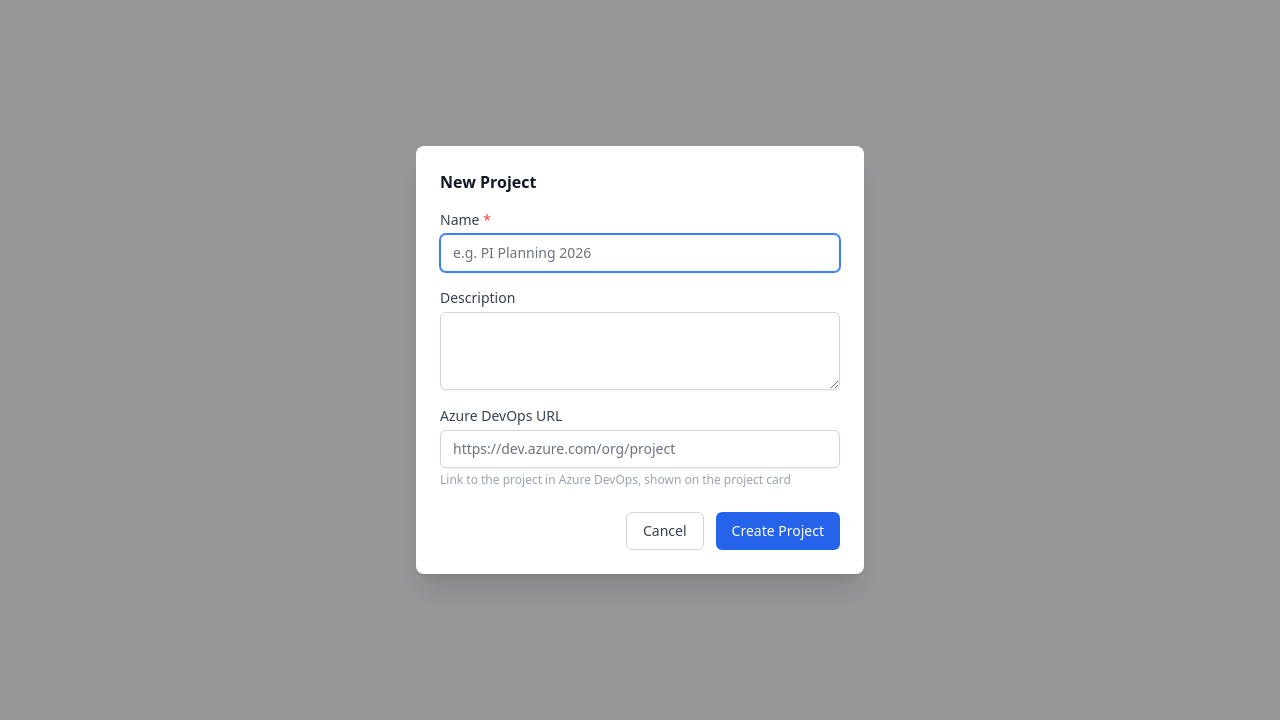
it: CreateProjectModal › shows duplicate name error on 409
This screenshot has width=1280, height=720.
Type "Dup" into the field labelled "Name *" at (640, 253), box x1=440 y1=234 x2=840 y2=272
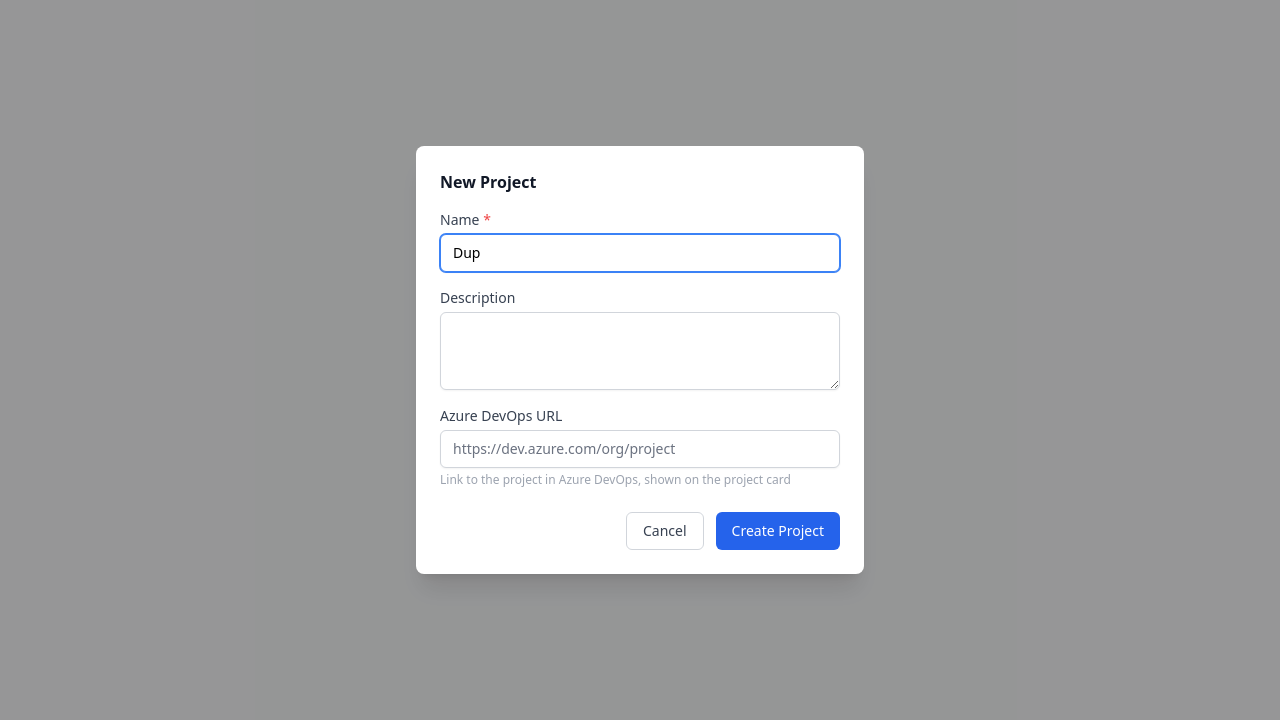
Click the button "Create Project" at (778, 531), box x1=716 y1=512 x2=840 y2=550
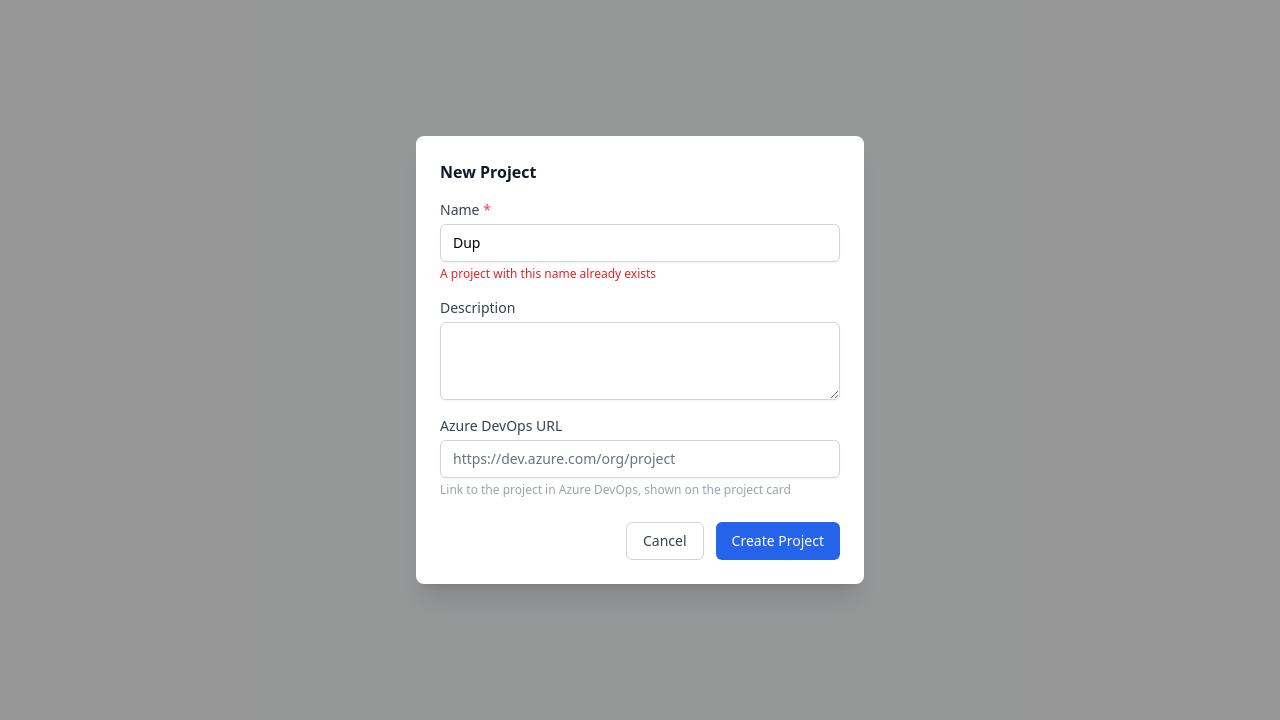
Result: the text "A project with this name already exists" is shown at x1=440 y1=265 x2=656 y2=282
